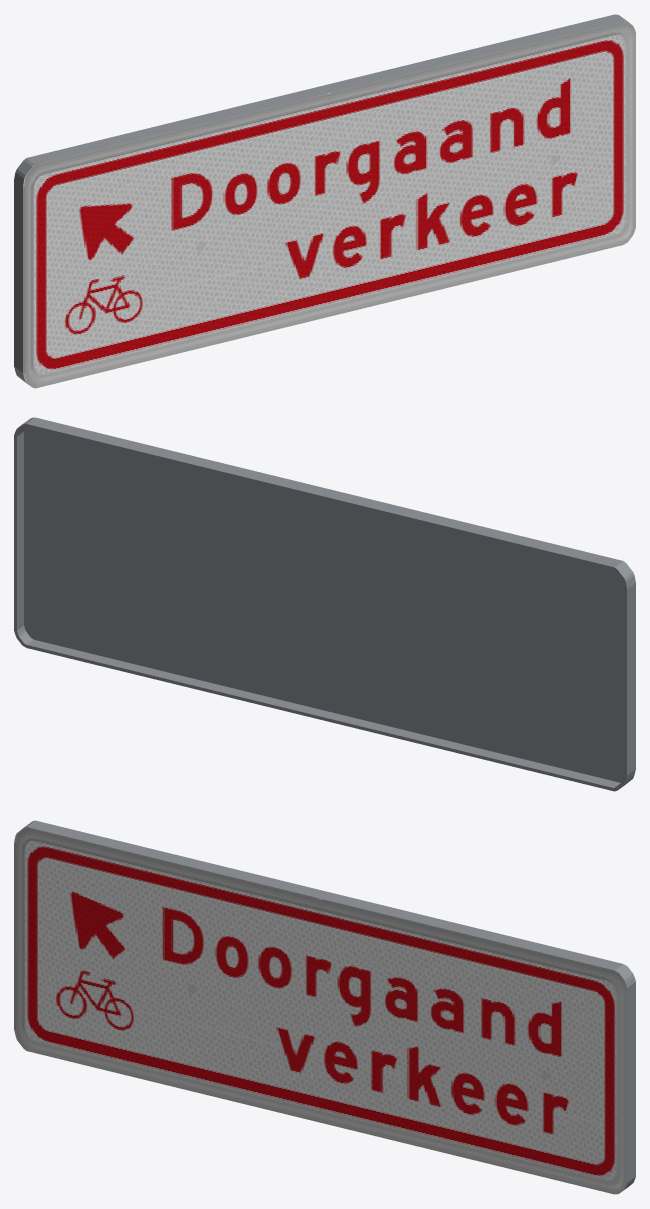
The picture shows the model from 3 angles, top to bottom: view 1: azimuth 30°, elevation 25°; view 2: azimuth 150°, elevation 25°; view 3: azimuth 330°, elevation 25°; orthographic projection.
Parts seen in each view (by area): view 1: cat_022bf4497ac3f9b3; view 2: cat_022bf4497ac3f9b3; view 3: cat_022bf4497ac3f9b3.
Boxes of the visible parts, bbox=[...] form: cat_022bf4497ac3f9b3: bbox=[14, 14, 635, 388]; cat_022bf4497ac3f9b3: bbox=[14, 417, 635, 791]; cat_022bf4497ac3f9b3: bbox=[14, 820, 635, 1194].
Bounding box in the file's own units: 0.6 × 0.015 × 0.2095.
Materials: 2 (1 with a texture image).
